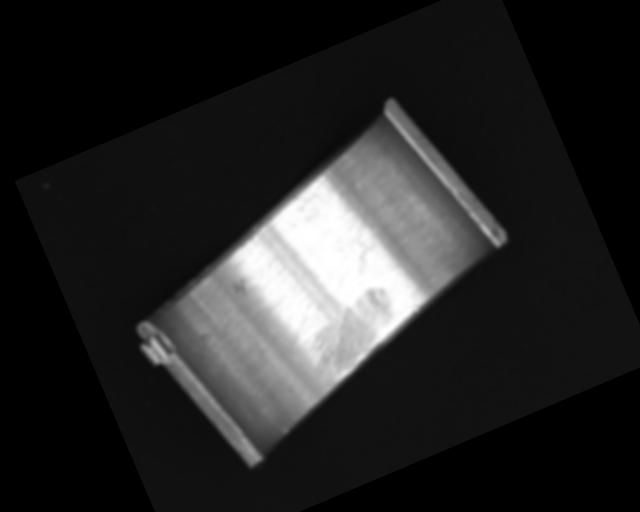blot: (331, 220, 390, 282)
bruise: (230, 275, 252, 298), (410, 302, 423, 314)
nick: (276, 423, 288, 436)
scratch: (292, 281, 410, 385)
